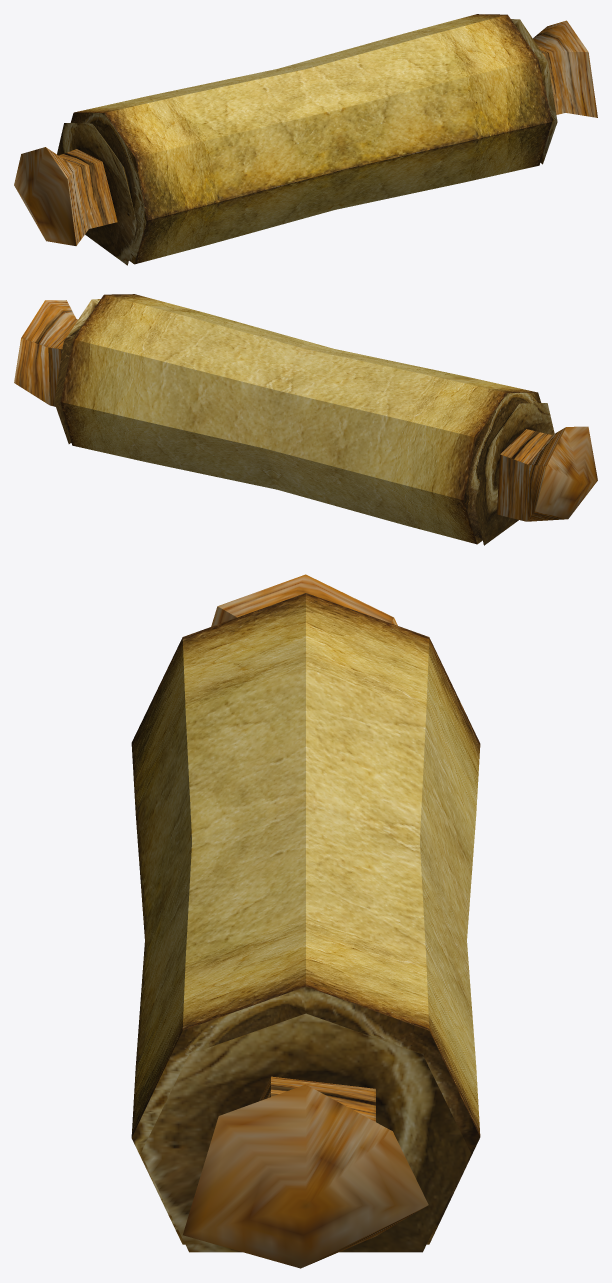
The model's file is mm9_deco_scroll1.glb.
3 views of the same model, one above another, from view 1: azimuth 30°, elevation 25°; view 2: azimuth 150°, elevation 25°; view 3: azimuth 270°, elevation 25° (orthographic). The views are drawn at different scales.
Parts seen in each view (by area): view 1: Scroll1; view 2: Scroll1; view 3: Scroll1.
Boxes of the visible parts, left/top/right/bottom form: Scroll1: left=14, top=14, right=597, bottom=265; Scroll1: left=14, top=294, right=597, bottom=545; Scroll1: left=131, top=574, right=480, bottom=1268.
Bounding box in the file's own units: 0.9328 × 0.2097 × 0.2549.
Materials: 1 (1 with a texture image).
